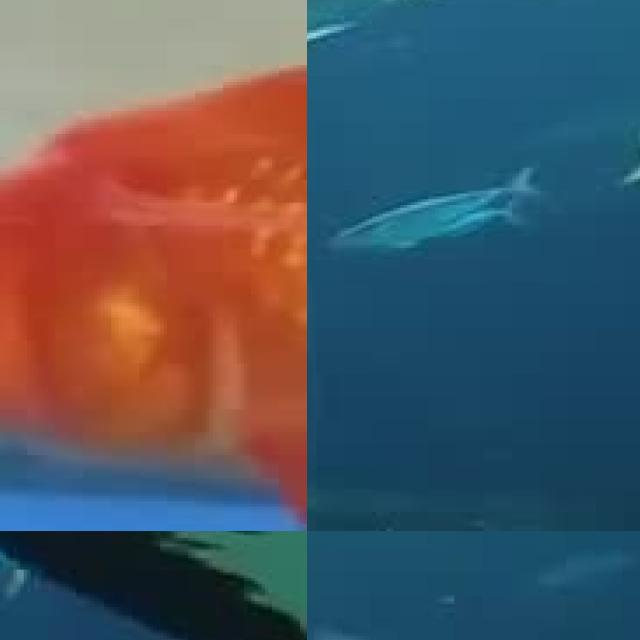fish: (0, 0, 307, 531), (307, 0, 640, 107)
